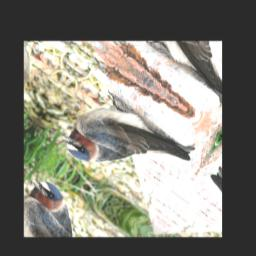Swallow: (54, 76, 200, 218)
